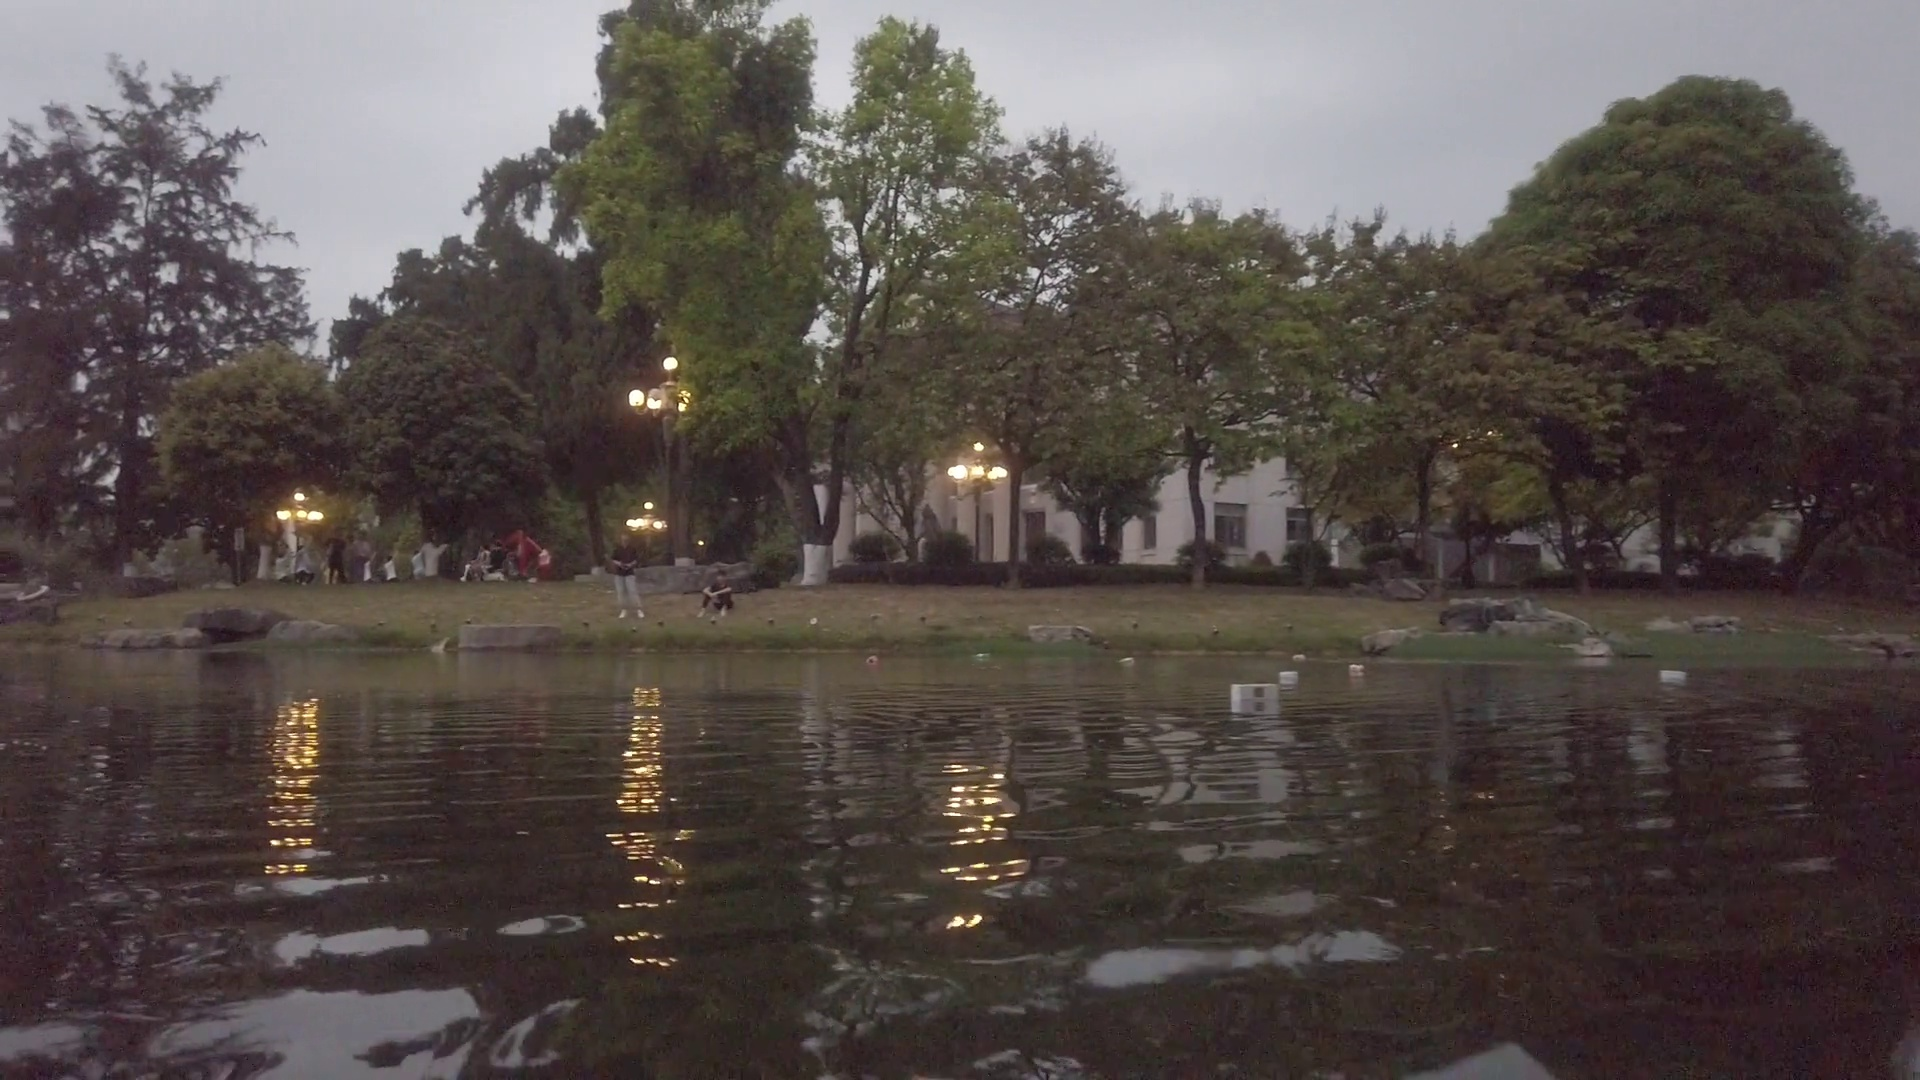bottle: (864, 651, 882, 665), (976, 651, 992, 659), (1352, 663, 1365, 673), (1120, 655, 1133, 665), (1292, 653, 1304, 662)
carton: (1228, 682, 1278, 708), (1658, 670, 1689, 682), (1279, 670, 1298, 682)
